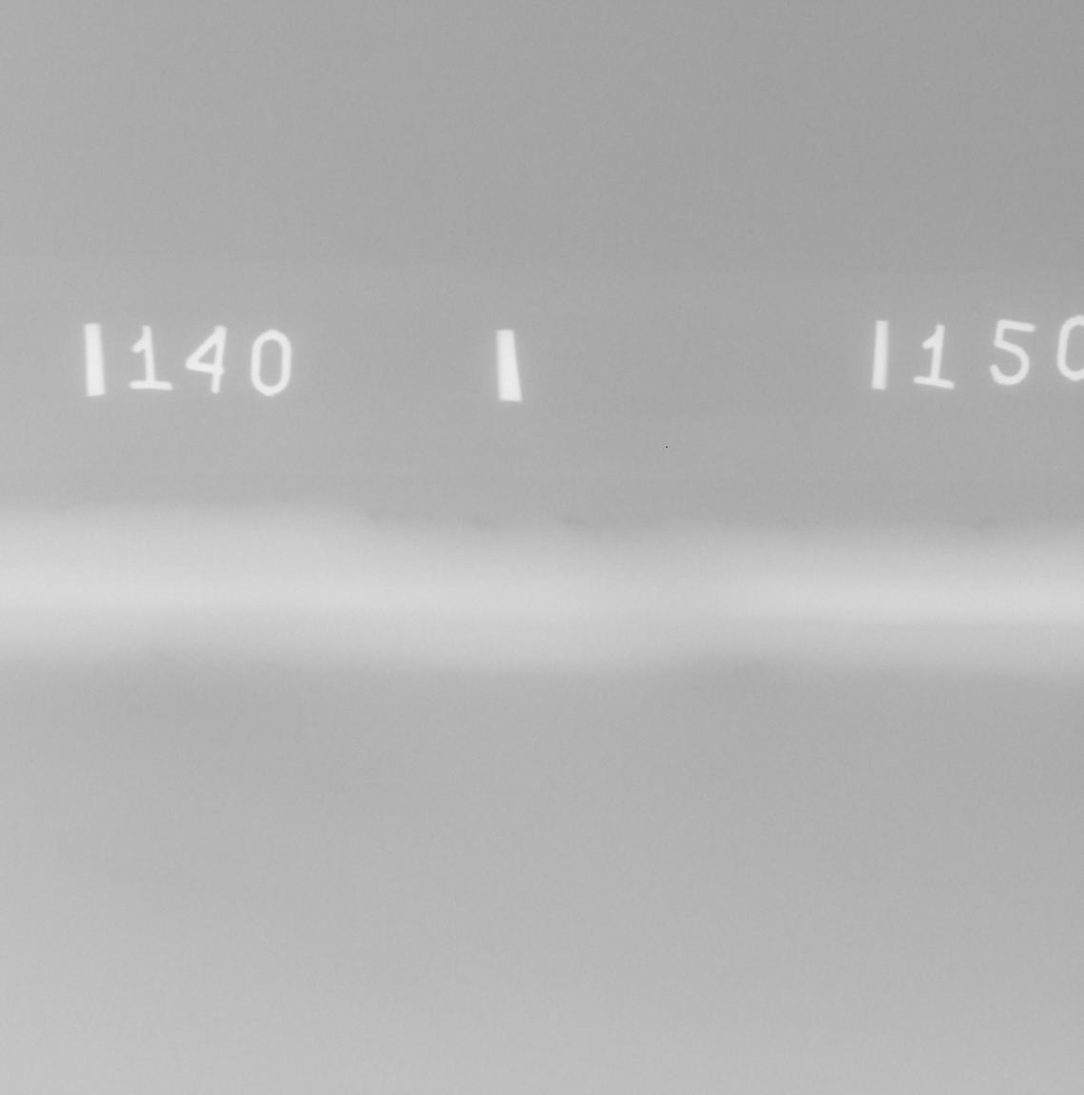Undercut: (364, 505, 429, 525), (467, 517, 494, 528), (564, 518, 589, 527), (974, 518, 989, 528)
